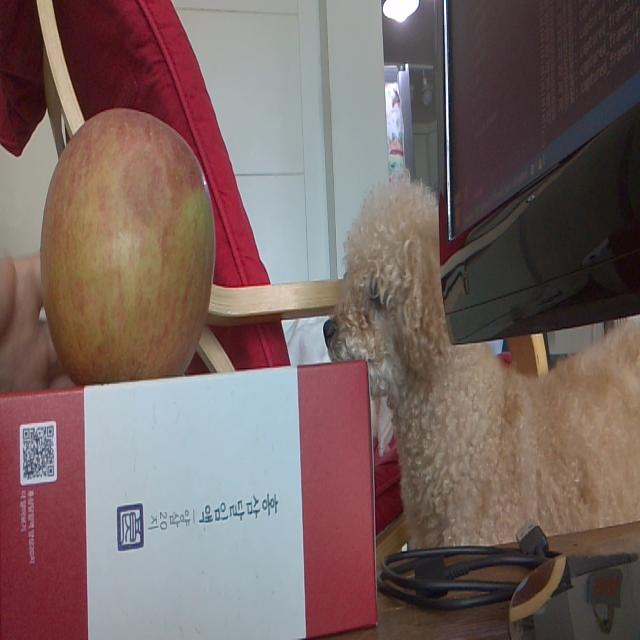apple: (43, 105, 217, 378)
